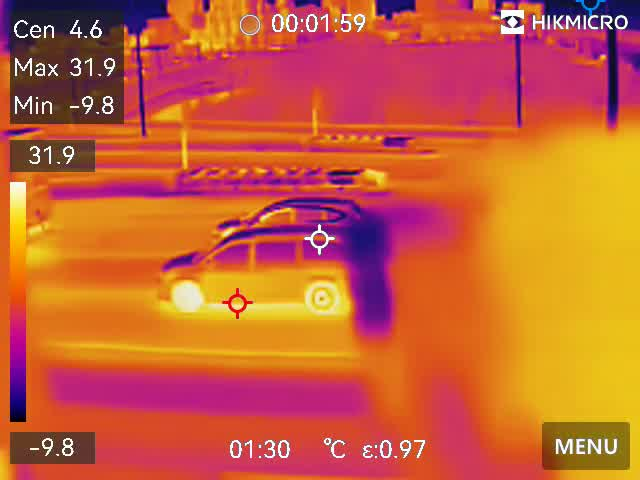largeCar: (151, 225, 365, 316), (212, 184, 379, 236)
